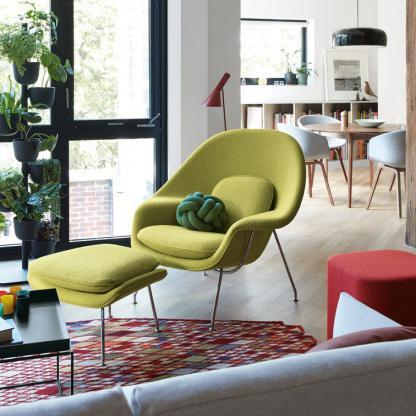chair: (131, 128, 309, 335), (26, 240, 173, 362), (322, 249, 416, 327), (362, 113, 409, 218), (299, 114, 351, 184), (299, 129, 335, 207)
door: (62, 2, 170, 243)
light: (322, 0, 391, 55), (201, 70, 252, 132)
sofa: (0, 337, 416, 416)
table: (0, 284, 78, 394), (303, 116, 412, 192)
